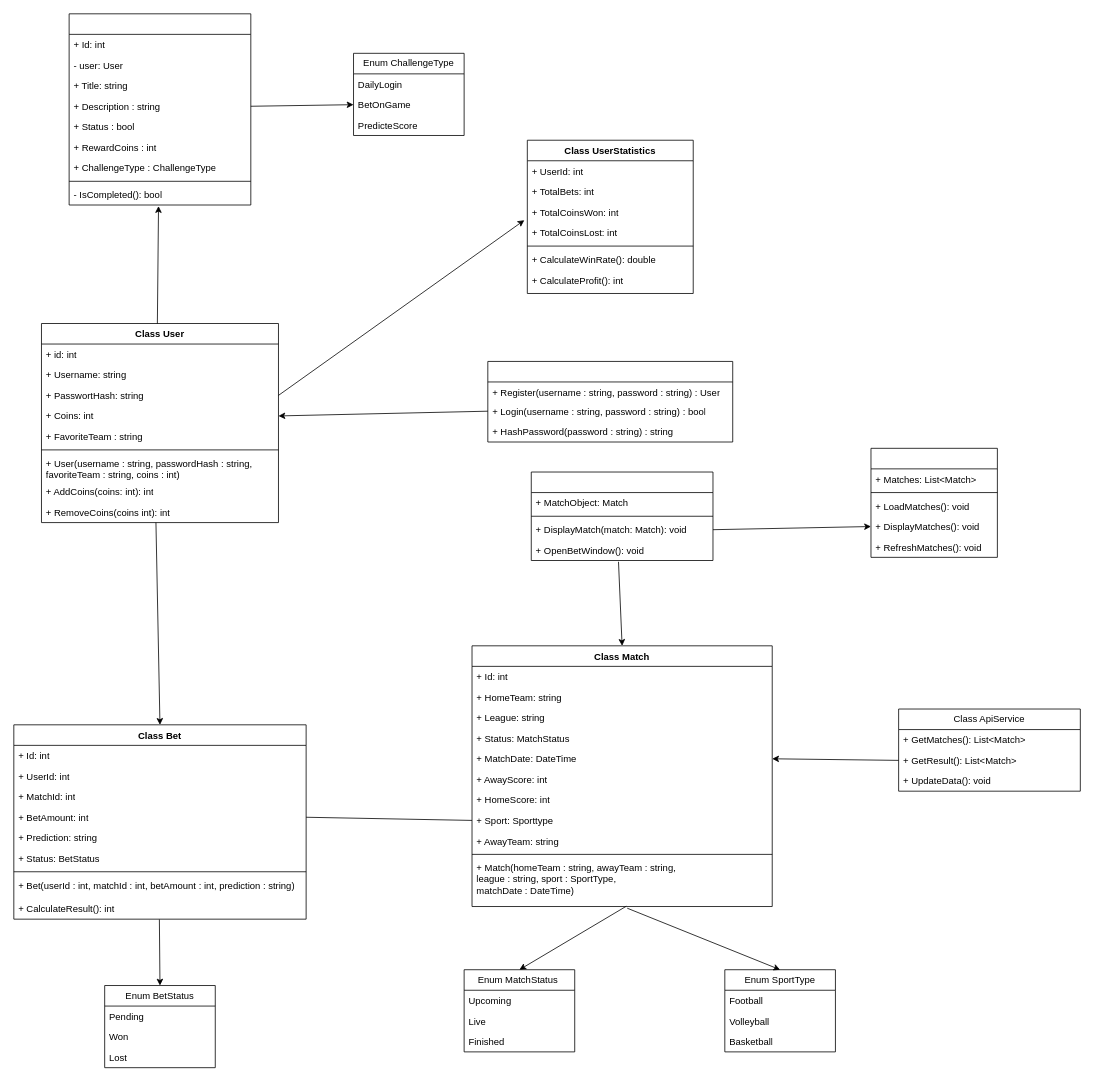
The diagram is 1094 pixels wide and 1084 high, and some of its shapes have lost their labels. Here are the shapes that lost their labels. From the top down, the box of each, then its label:
(68, 13, 251, 205): Class Challenge
(487, 361, 733, 442): Class AuthService
(530, 471, 713, 561): Class MatchCardView
(870, 448, 997, 557): Class MatchView
